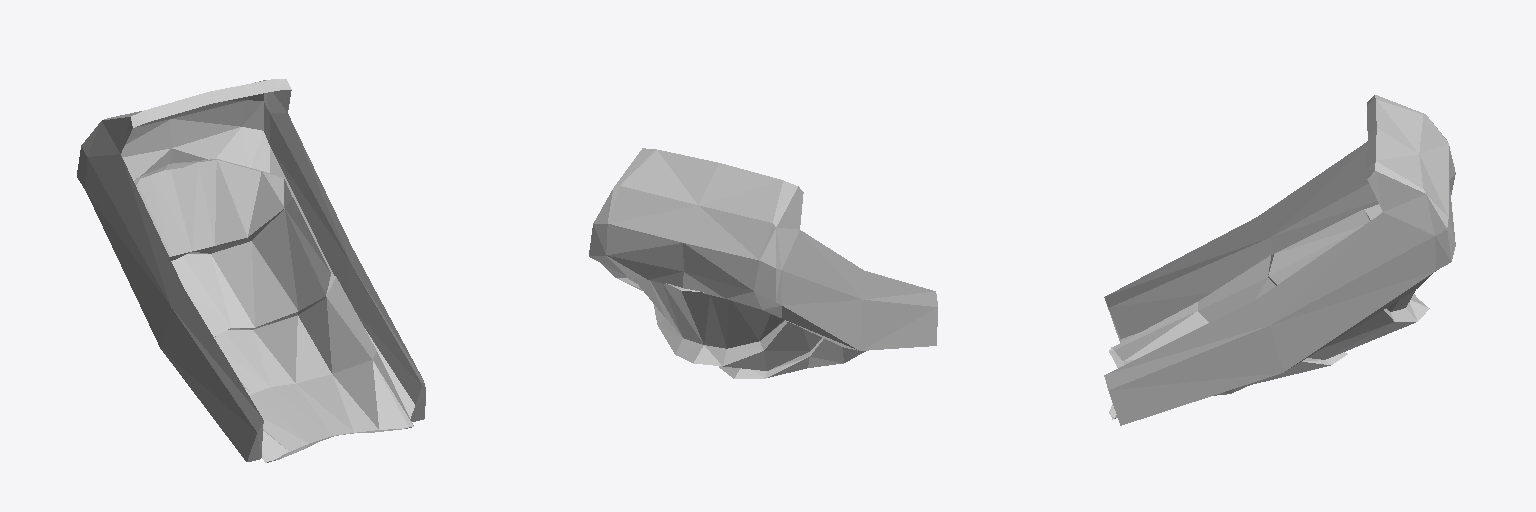
File: armour-lvl1.obj
The picture shows the model from 3 angles: view 1: azimuth 30°, elevation 25°; view 2: azimuth 150°, elevation 25°; view 3: azimuth 270°, elevation 25°; orthographic projection.
Visible parts, largest first — view 1: Armour-lvl1-1_Plane.012; view 2: Armour-lvl1-1_Plane.012; view 3: Armour-lvl1-1_Plane.012.
Part boxes in pixels (x1,y1,x2,y2): Armour-lvl1-1_Plane.012: (77, 79, 425, 462); Armour-lvl1-1_Plane.012: (589, 148, 937, 378); Armour-lvl1-1_Plane.012: (1104, 95, 1455, 425).
Size of the model in its own units: 2.97 by 3.89 by 4.82.